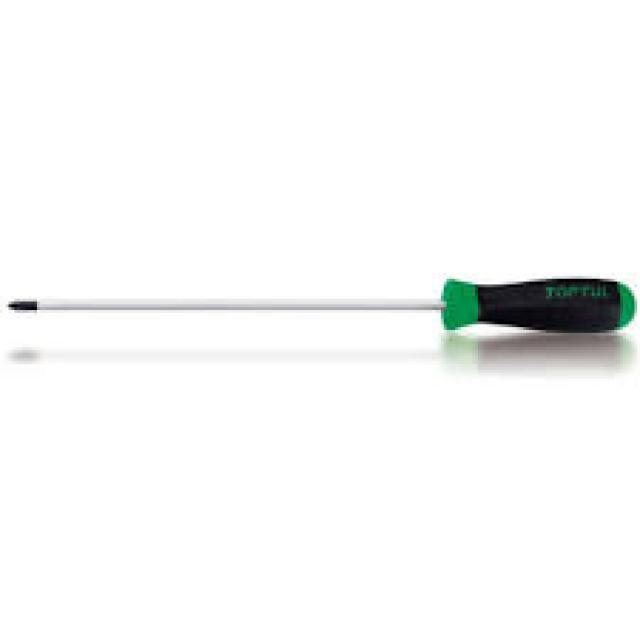screwdriver: (0, 268, 634, 337)
